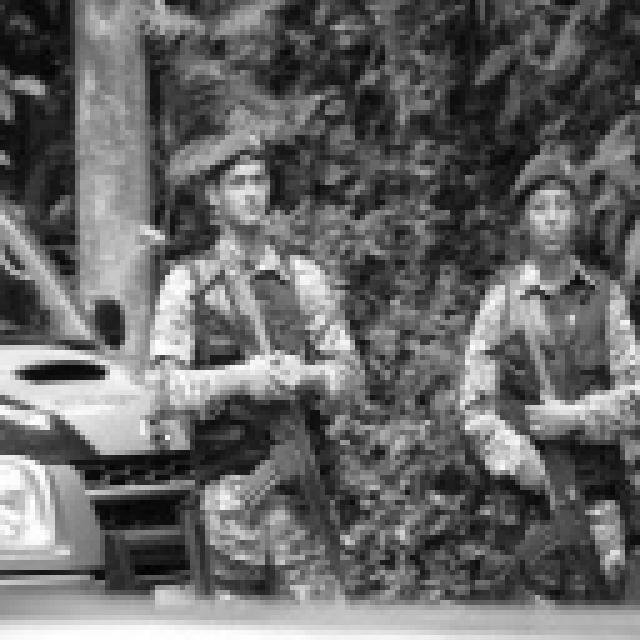Rifle: (186, 232, 385, 612), (456, 254, 640, 640)
